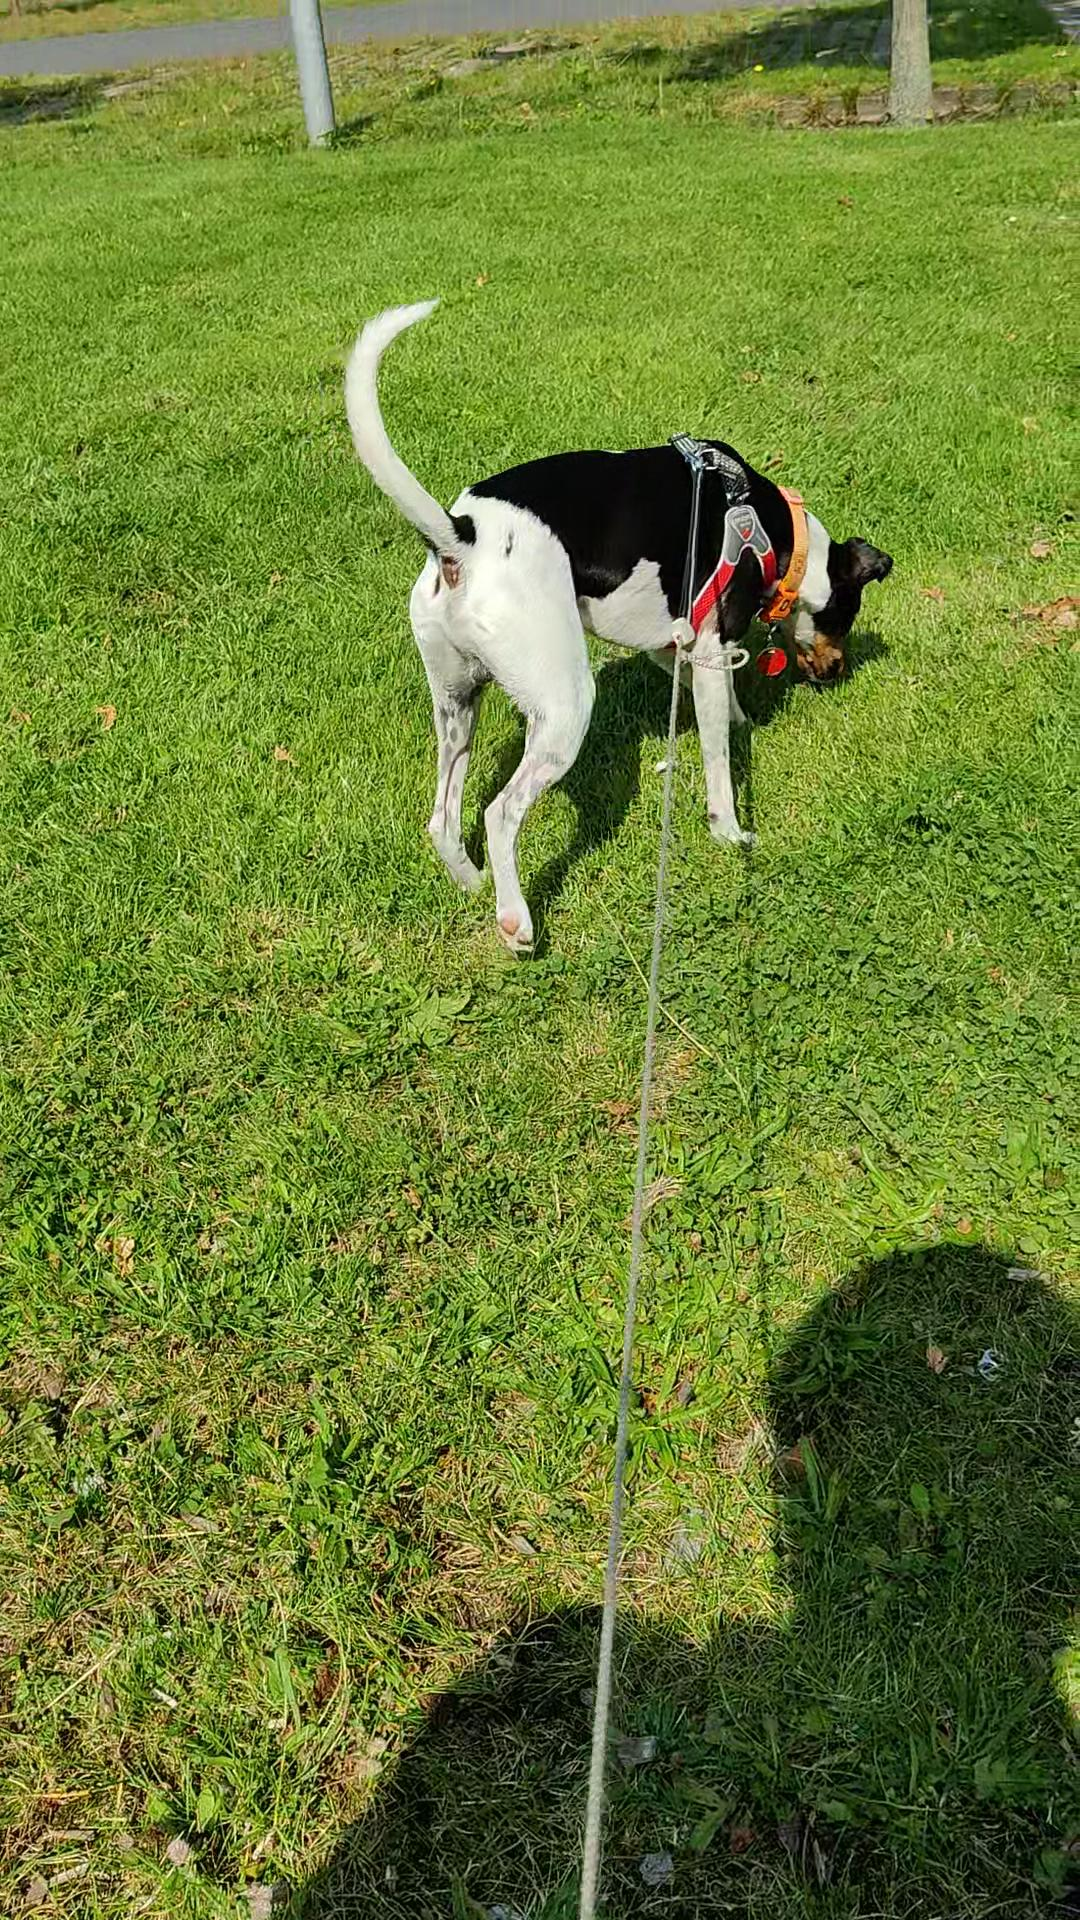Dog: (334, 294, 894, 960)
